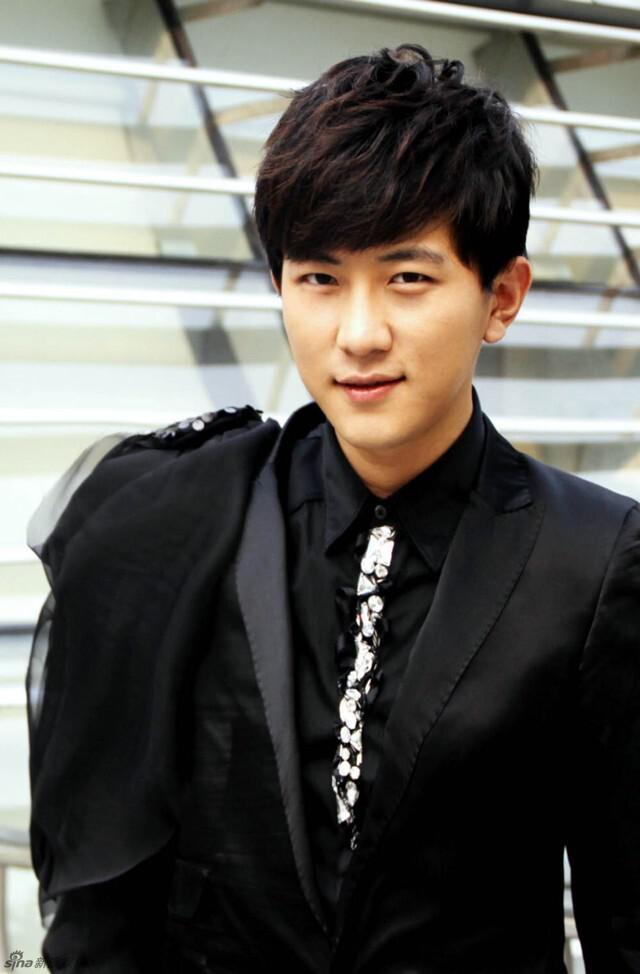people: (70, 105, 604, 919), (265, 203, 521, 480)
